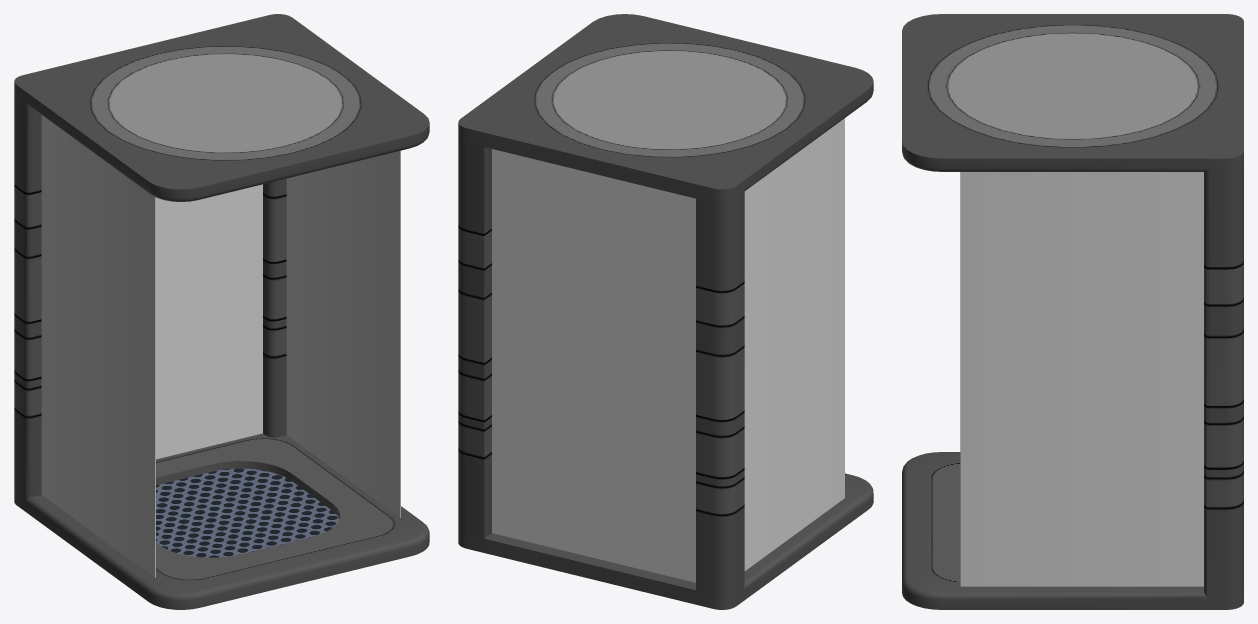
File: Shower.fbx
3 renders of one model, left to right at view 1: azimuth 30°, elevation 25°; view 2: azimuth 150°, elevation 25°; view 3: azimuth 270°, elevation 25°, orthographic. The views are drawn at different scales.
Visible parts, largest first — view 1: Glass, Main; view 2: Glass, Main; view 3: Glass, Main.
Boxes of the visible parts, x1,y1,x2,y2 form: Glass: (41, 115, 400, 577); Main: (14, 14, 429, 609); Glass: (492, 118, 844, 582); Main: (458, 14, 873, 609); Glass: (960, 172, 1203, 586); Main: (902, 14, 1243, 609).
Size of the model in its own units: 200 by 291 by 200.
3 materials, 2 textured.
